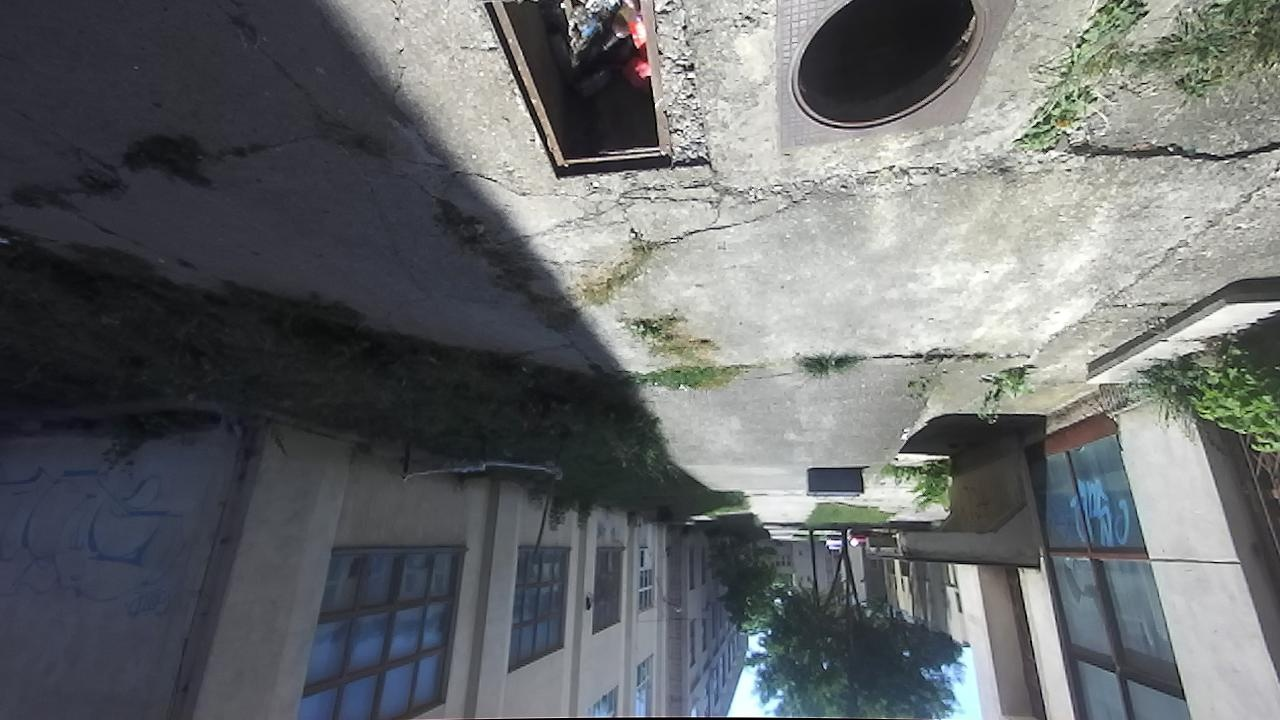drain: (472, 0, 679, 187), (787, 0, 989, 132)
